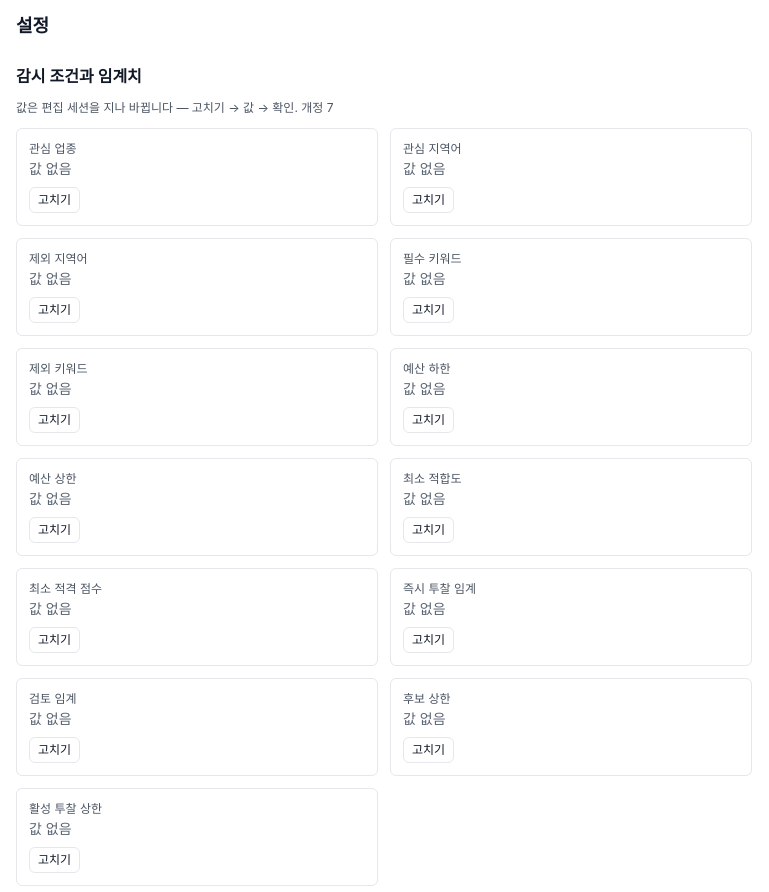
Test: 설정 — 전략은 편집 세션으로만 바뀐다 › 확인 화면의 보낸 값이 본문의 값과 같은 꼴이다
Click the button "고치기" below "예산 상한" at (55, 530), box [29,517,80,543]
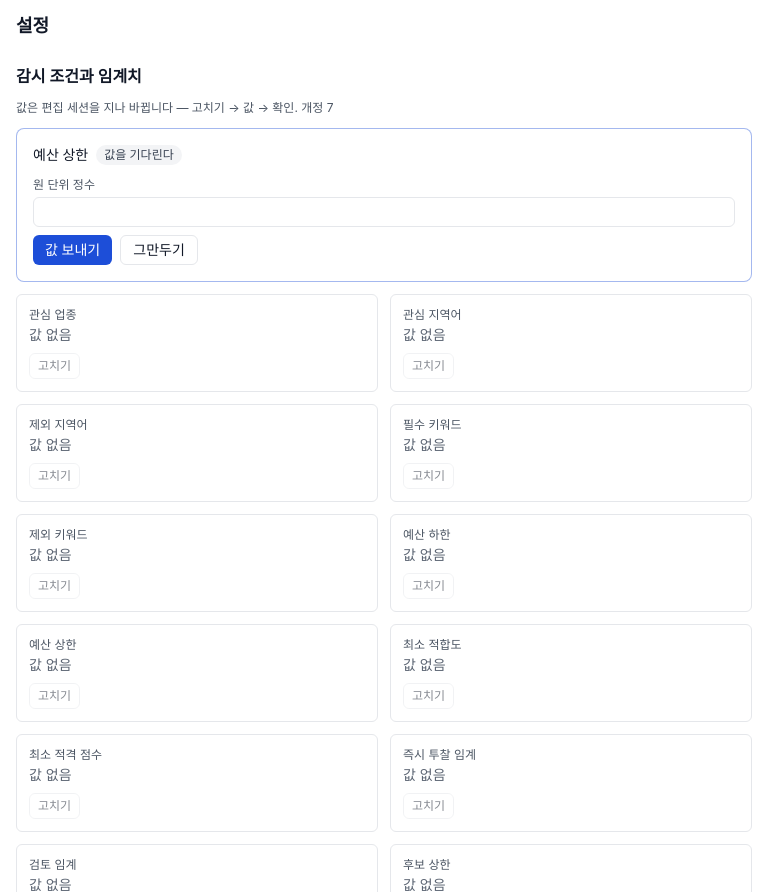
Expected: the element with test id "edit-session" is shown, [16,128,752,282]
Type "1200000000" into the field named "예산 상한" at (384, 212), box [33,197,735,227]
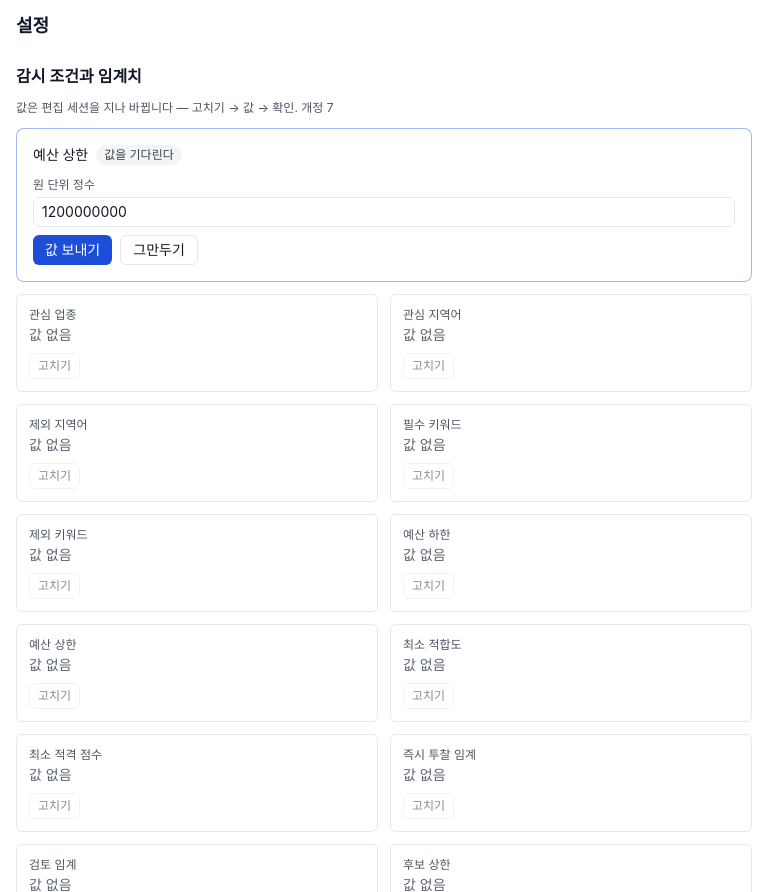
Click the button "값 보내기" at (73, 250), box [33,235,112,265]
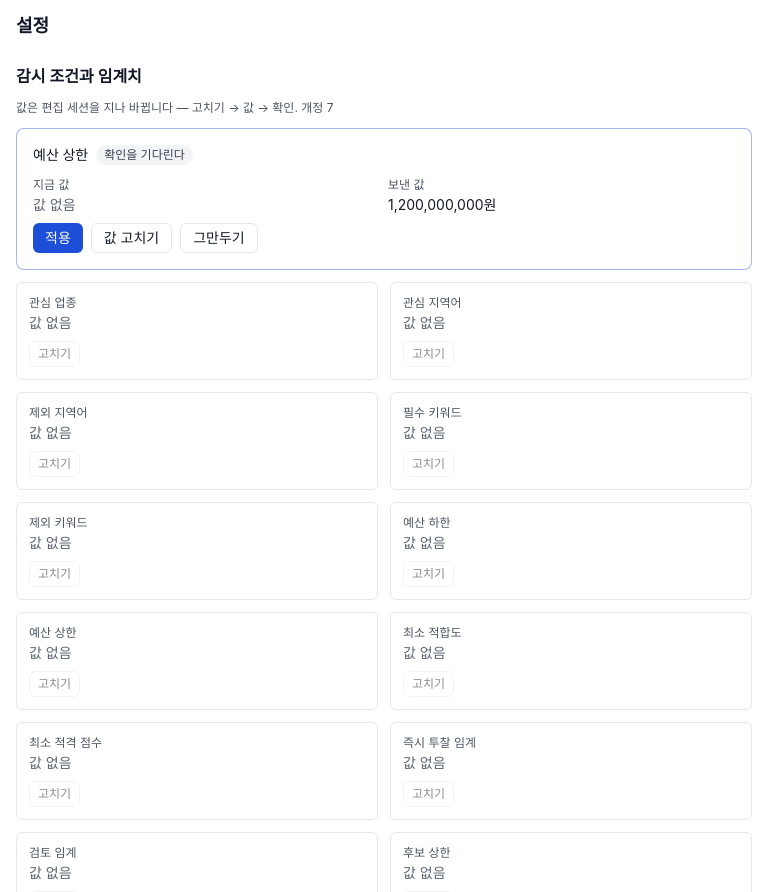
Expected: the text with test id "edit-sent-value" reads "1,200,000,000원", [388,196,496,213]
